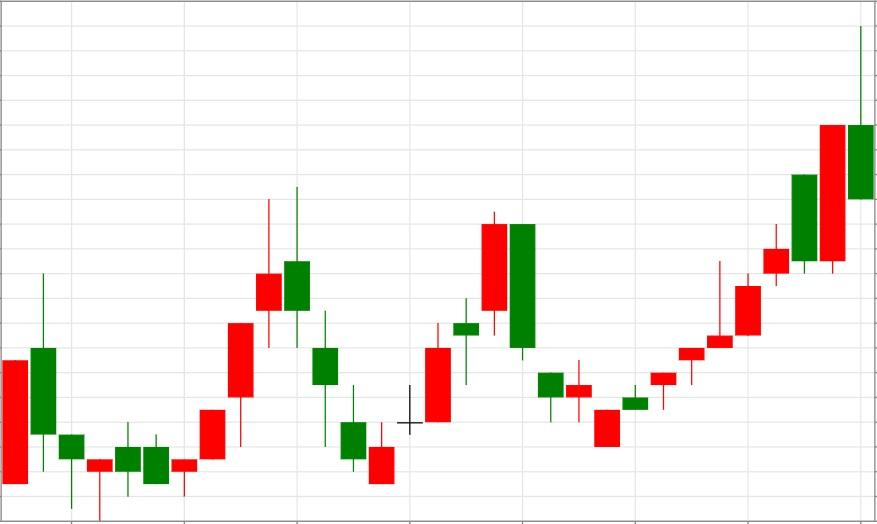bearish_engulfing_fall: (142, 187, 311, 497), (367, 211, 536, 485)
three_black_crows_fall: (142, 187, 368, 497)
three_white_soldiers_rise: (30, 271, 254, 520)
